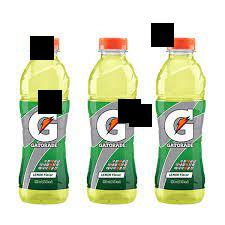gatorade_lemon: (147, 34, 214, 205), (13, 35, 74, 206), (84, 35, 142, 209)
